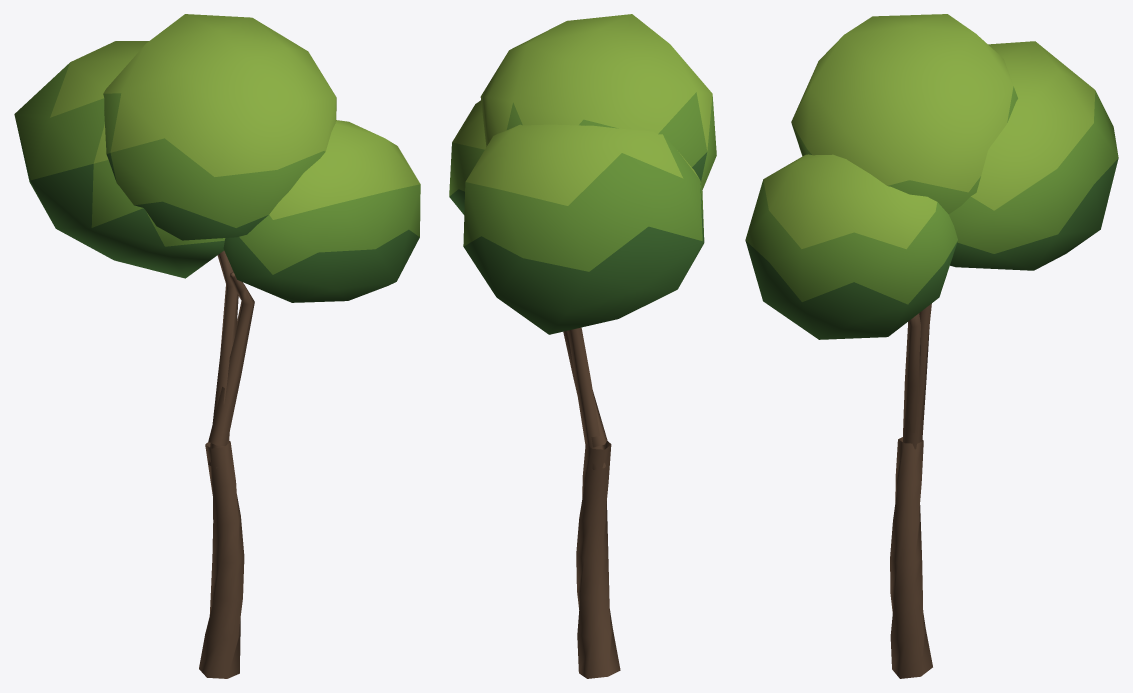
Rendered from SaplingB_LOD.glb.
The picture shows the model from 3 angles, left to right: view 1: azimuth 30°, elevation 25°; view 2: azimuth 150°, elevation 25°; view 3: azimuth 270°, elevation 25°; orthographic projection.
Parts seen in each view (by area): view 1: SaplingB_LOD.leafLight, SaplingB_LOD.leafMid, SaplingB_LOD.leafDark, SaplingB_LOD.bark; view 2: SaplingB_LOD.leafLight, SaplingB_LOD.leafMid, SaplingB_LOD.leafDark, SaplingB_LOD.bark; view 3: SaplingB_LOD.leafLight, SaplingB_LOD.leafMid, SaplingB_LOD.leafDark, SaplingB_LOD.bark.
Boxes of the visible parts, bbox=[...] form: SaplingB_LOD.leafLight: bbox=[50, 14, 420, 219]; SaplingB_LOD.leafMid: bbox=[14, 63, 420, 274]; SaplingB_LOD.leafDark: bbox=[15, 120, 419, 302]; SaplingB_LOD.bark: bbox=[199, 250, 254, 678]; SaplingB_LOD.leafLight: bbox=[452, 14, 712, 205]; SaplingB_LOD.leafMid: bbox=[449, 92, 716, 271]; SaplingB_LOD.leafDark: bbox=[449, 152, 707, 334]; SaplingB_LOD.bark: bbox=[563, 327, 620, 678]; SaplingB_LOD.leafLight: bbox=[763, 14, 1095, 249]; SaplingB_LOD.leafMid: bbox=[745, 86, 1118, 304]; SaplingB_LOD.leafDark: bbox=[745, 158, 1118, 339]; SaplingB_LOD.bark: bbox=[890, 303, 932, 678].
Bounding box in the file's own units: 5.9 × 11.85 × 6.22.
